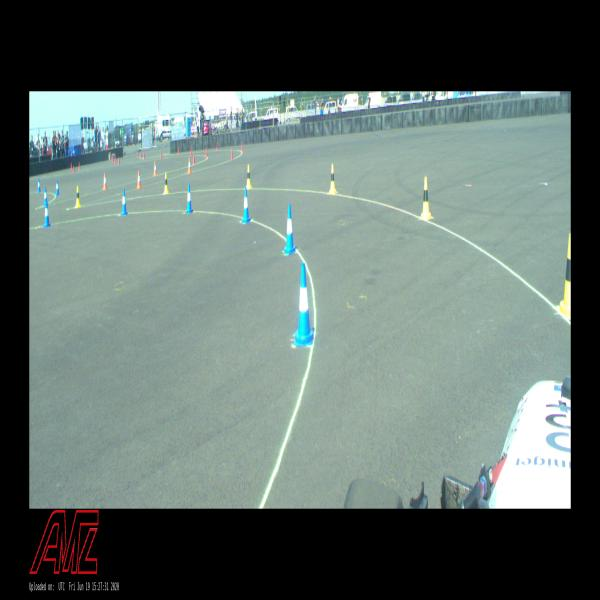blue_cone: (294, 263, 314, 346), (284, 205, 296, 255), (241, 188, 250, 223), (186, 184, 193, 214), (120, 189, 128, 215), (44, 202, 50, 226), (44, 188, 48, 206), (56, 179, 60, 195), (37, 179, 41, 192)
orange_cone: (102, 173, 108, 190), (136, 171, 142, 188), (188, 158, 192, 173), (153, 162, 157, 176)
yellow_cone: (560, 234, 570, 318), (419, 177, 434, 220), (329, 164, 338, 193), (75, 186, 81, 207), (246, 165, 251, 188), (164, 173, 169, 194)
